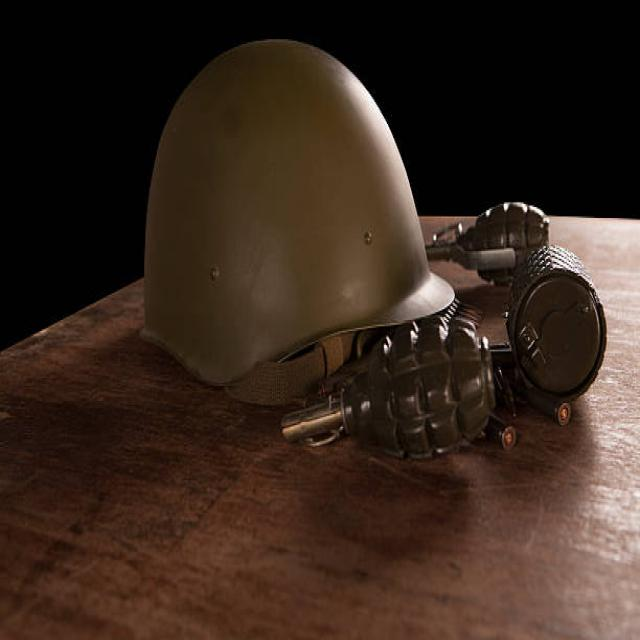grenade: (276, 318, 500, 466), (424, 197, 555, 294)
